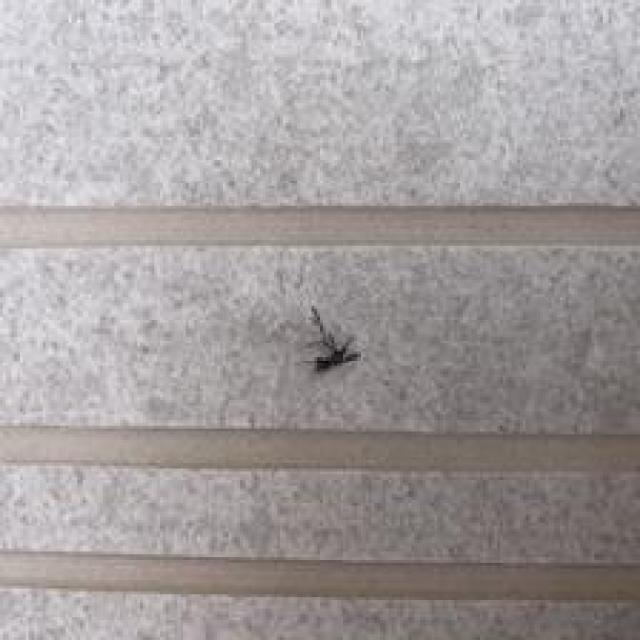Aedes albopictus: (300, 304, 360, 373)
